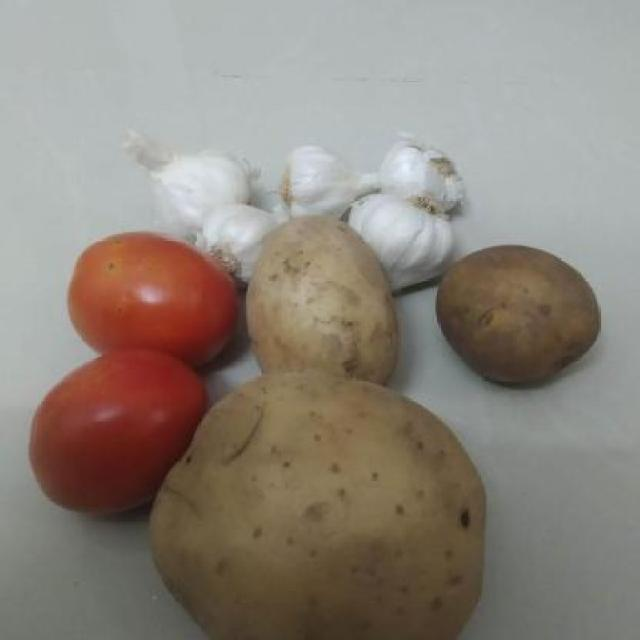Garlic: (129, 130, 263, 236), (370, 131, 476, 211), (276, 140, 378, 220)
Potato: (142, 372, 490, 640), (432, 238, 612, 388), (250, 222, 404, 386)
Tomato: (23, 354, 206, 523), (59, 234, 252, 374)
